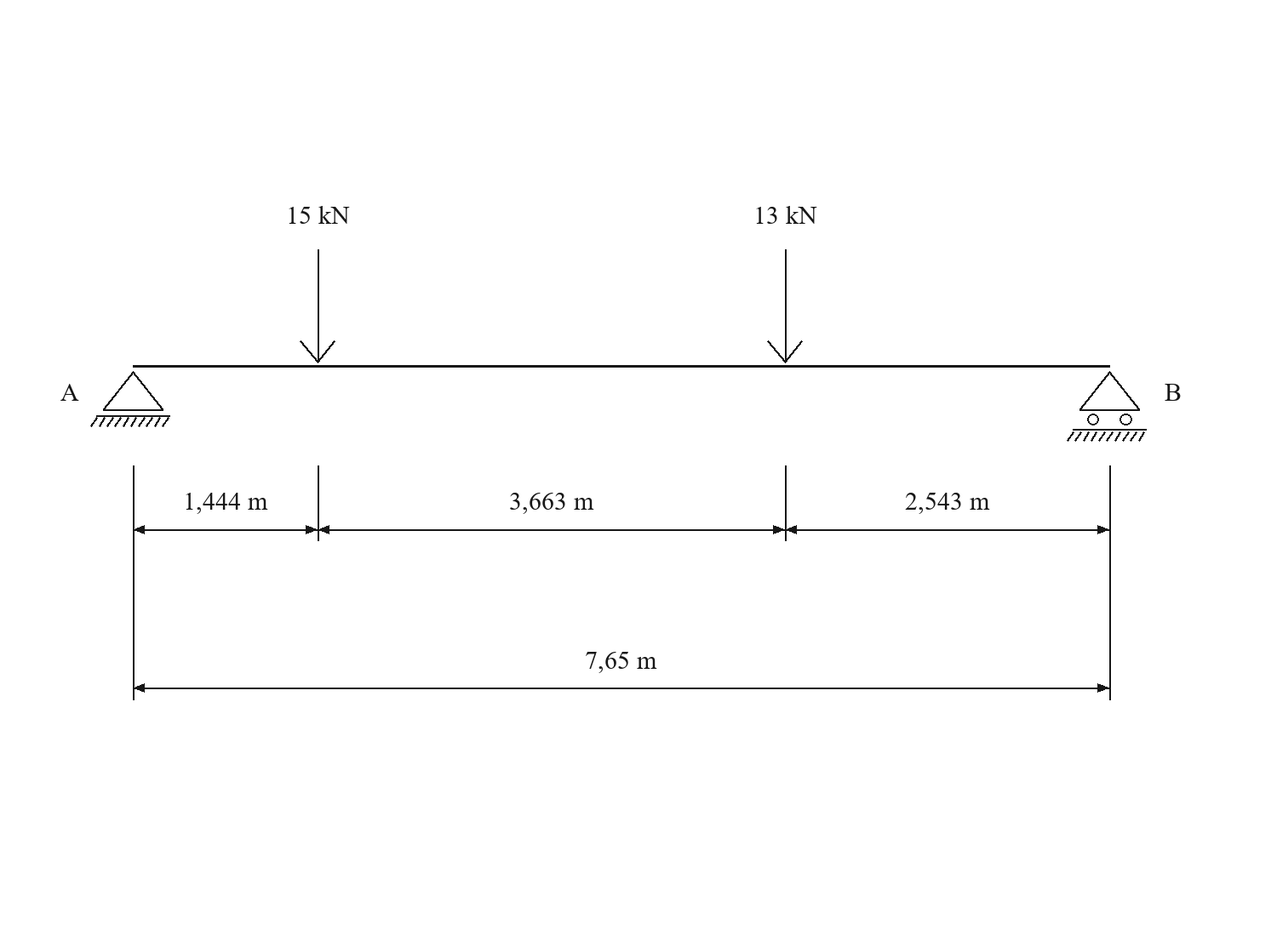pin_support: (90, 371, 170, 427)
point_load: (767, 249, 803, 363), (300, 249, 335, 363)
roller_support: (1067, 371, 1147, 442)
